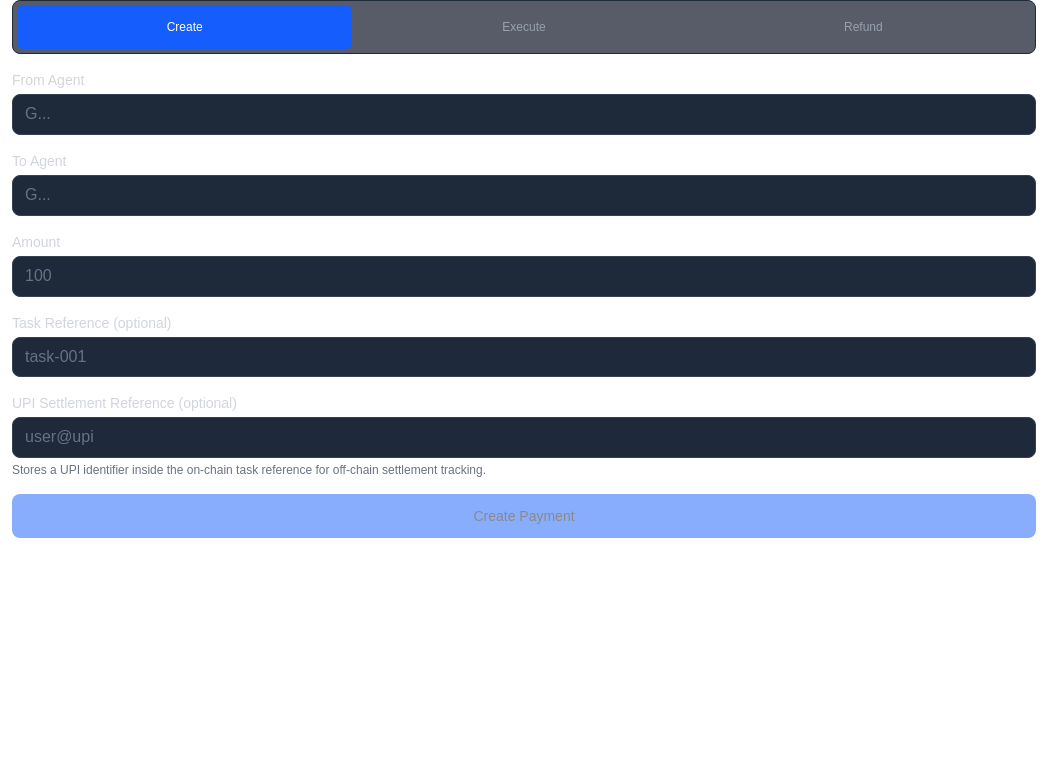
Test: PaymentForm › shows error on failure
Type "GA7Q3B7V6QV4" into the field with placeholder "G..." below "From Agent".
click(524, 114); type("GA7Q3B7V6QV4")  # box 12,94 -> 1036,135
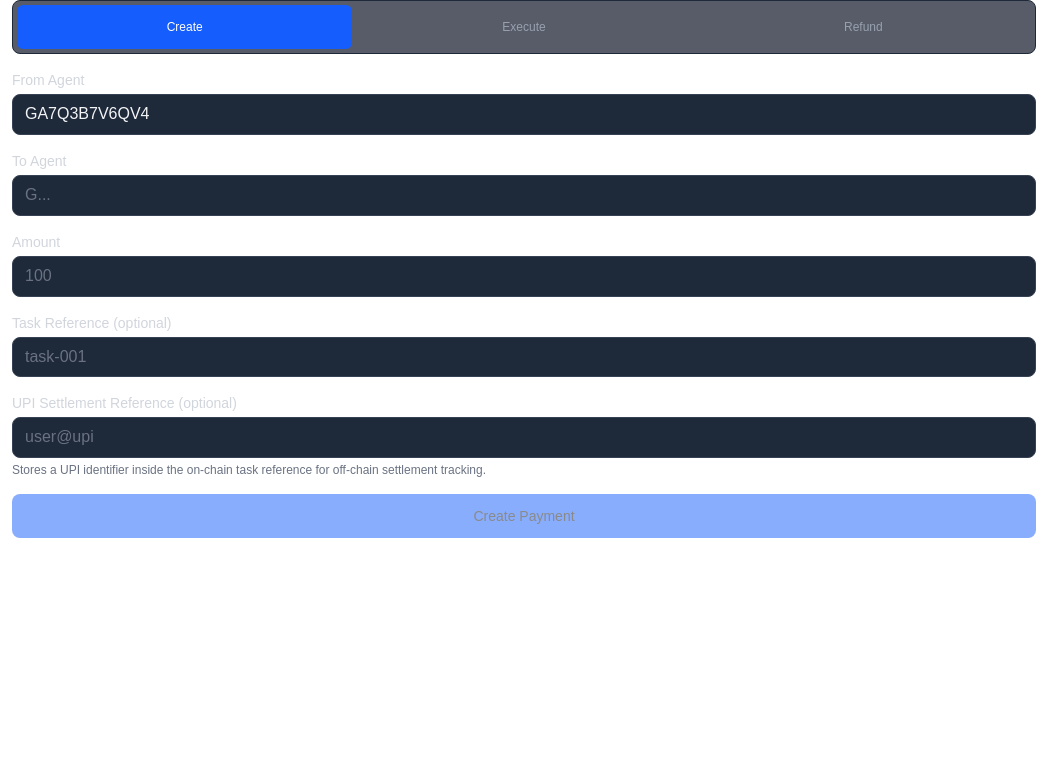
Type "GB7Q3B7V6QV4" into the field with placeholder "G...".
click(524, 195); type("GB7Q3B7V6QV4")  # box 12,175 -> 1036,216
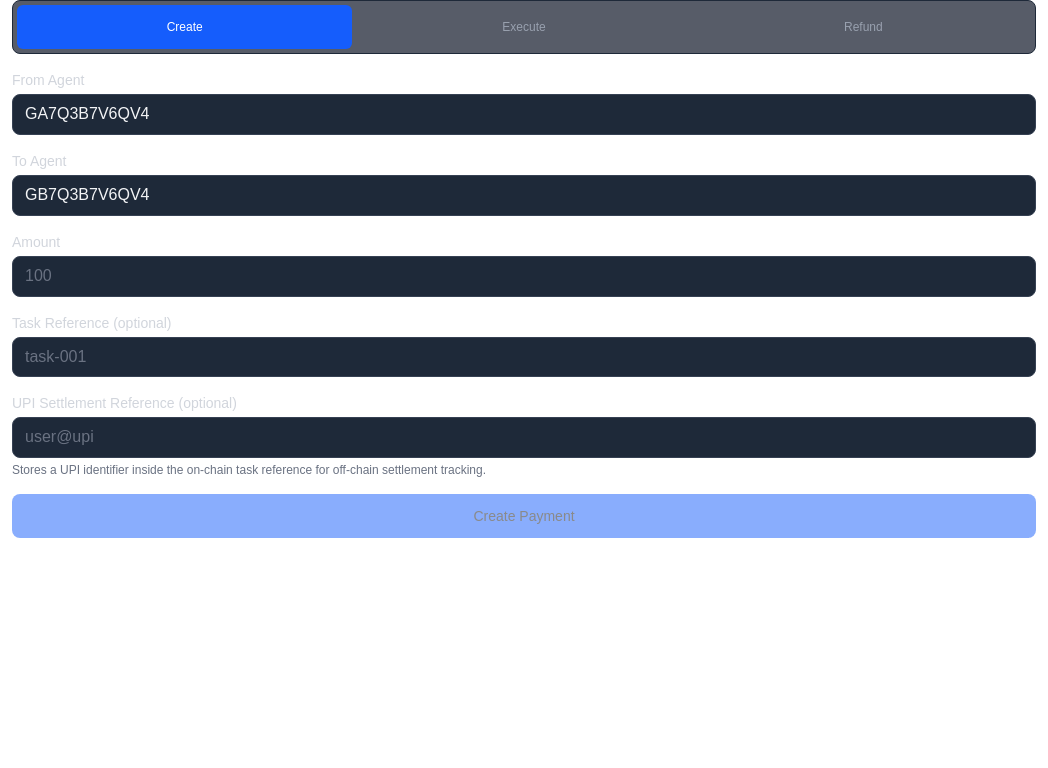
Type "500" into the number field with placeholder "100".
click(524, 276); type("500")  # box 12,256 -> 1036,296
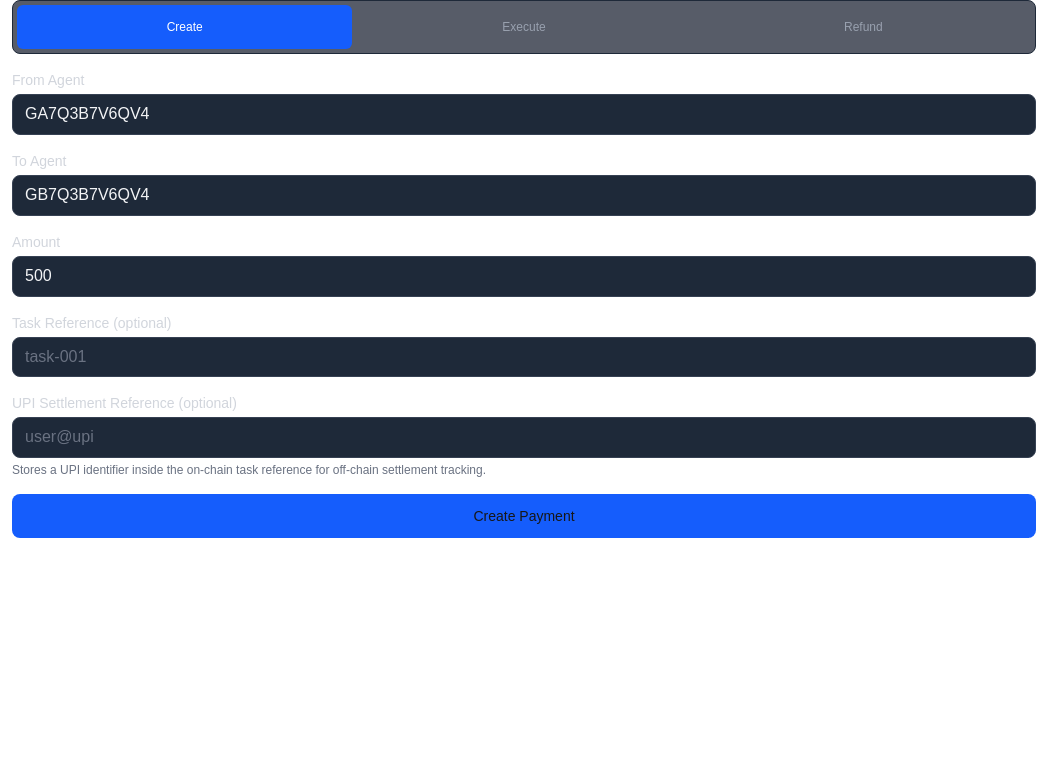
Click the button "Create Payment".
click(524, 516)  # box 12,494 -> 1036,538
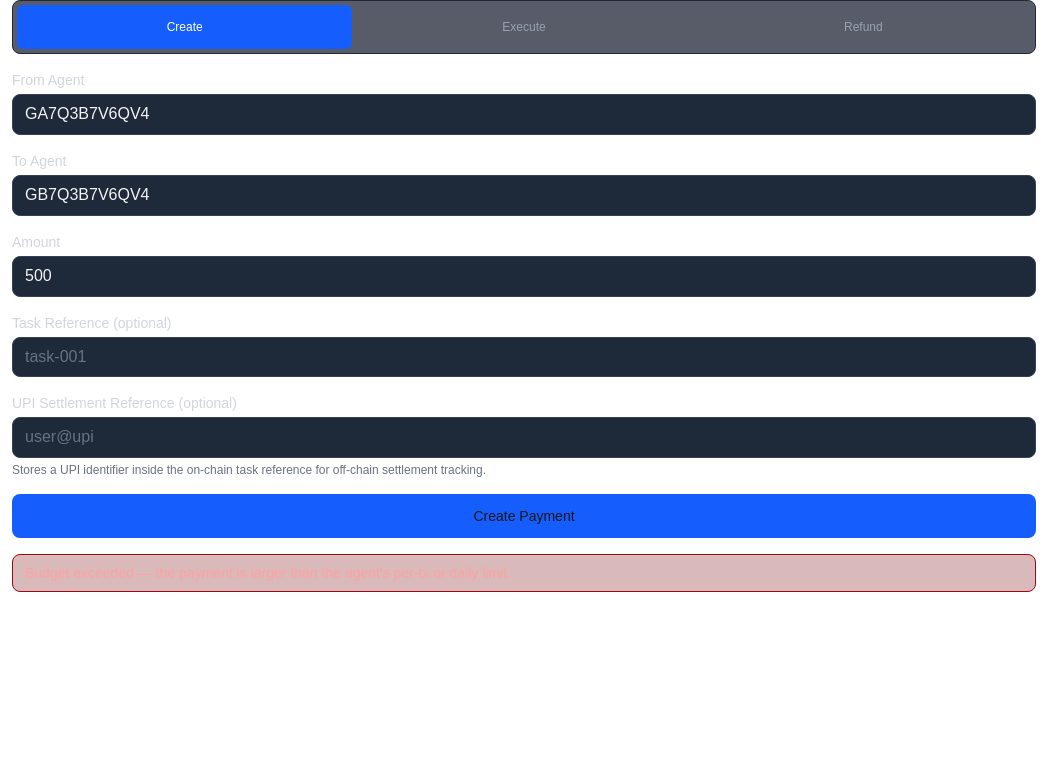
expect the text "Budget exceeded" is shown: met, box 25,565 -> 511,581
